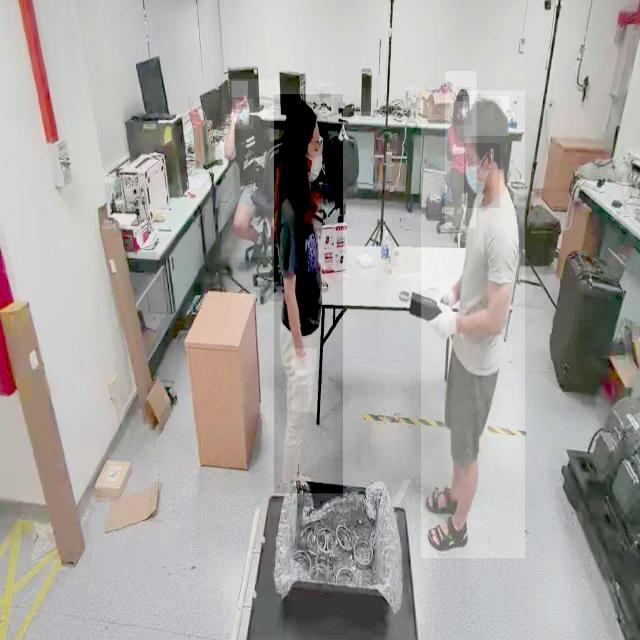face_mask: (464, 143, 500, 208), (302, 116, 328, 182), (232, 99, 254, 129), (453, 95, 471, 125)
hand_glove: (291, 348, 317, 414), (432, 295, 456, 353)
hand_noglove: (231, 109, 240, 123)
head_nohelmet: (463, 96, 509, 137), (285, 100, 319, 128), (231, 81, 248, 99), (456, 87, 470, 102)
person: (421, 91, 525, 559), (273, 94, 343, 494), (221, 79, 279, 258), (445, 71, 477, 229)
